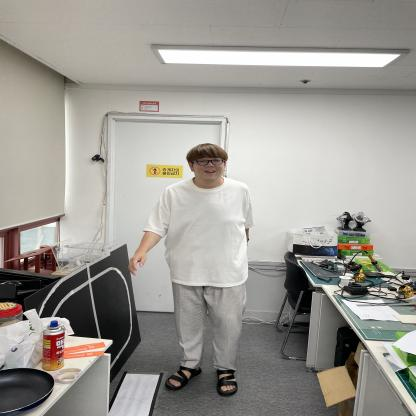normal: (130, 142, 255, 397)
